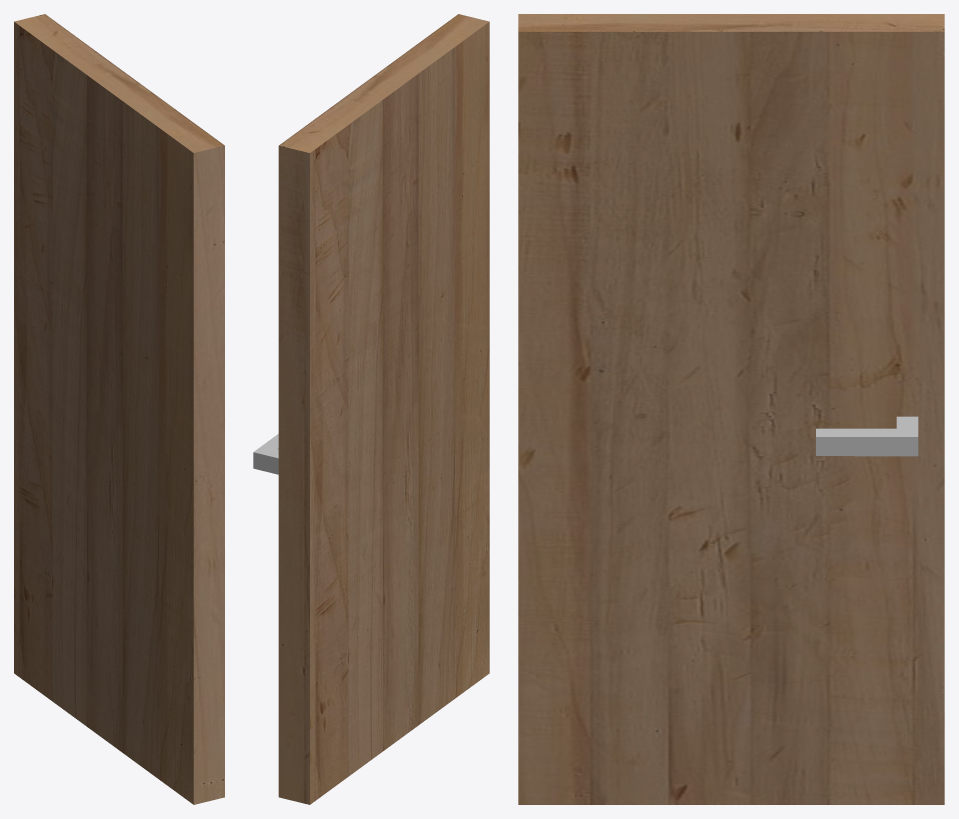
File: door.fbx
The picture shows the model from 3 angles, left to right: view 1: azimuth 30°, elevation 25°; view 2: azimuth 150°, elevation 25°; view 3: azimuth 270°, elevation 25°; orthographic projection. The views are drawn at different scales.
Visible parts, largest first — view 1: Door; view 2: Door, handle; view 3: Door, handle.
Part boxes in pixels (box(x1,y1,x2,y2)): Door: box(14, 14, 224, 804); Door: box(278, 14, 489, 804); handle: box(253, 434, 278, 474); Door: box(518, 14, 944, 804); handle: box(816, 416, 918, 456).
Bounding box in the file's own units: 21.75 × 200 × 100.
